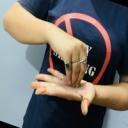hand: (31, 67, 95, 115), (46, 22, 89, 89)
